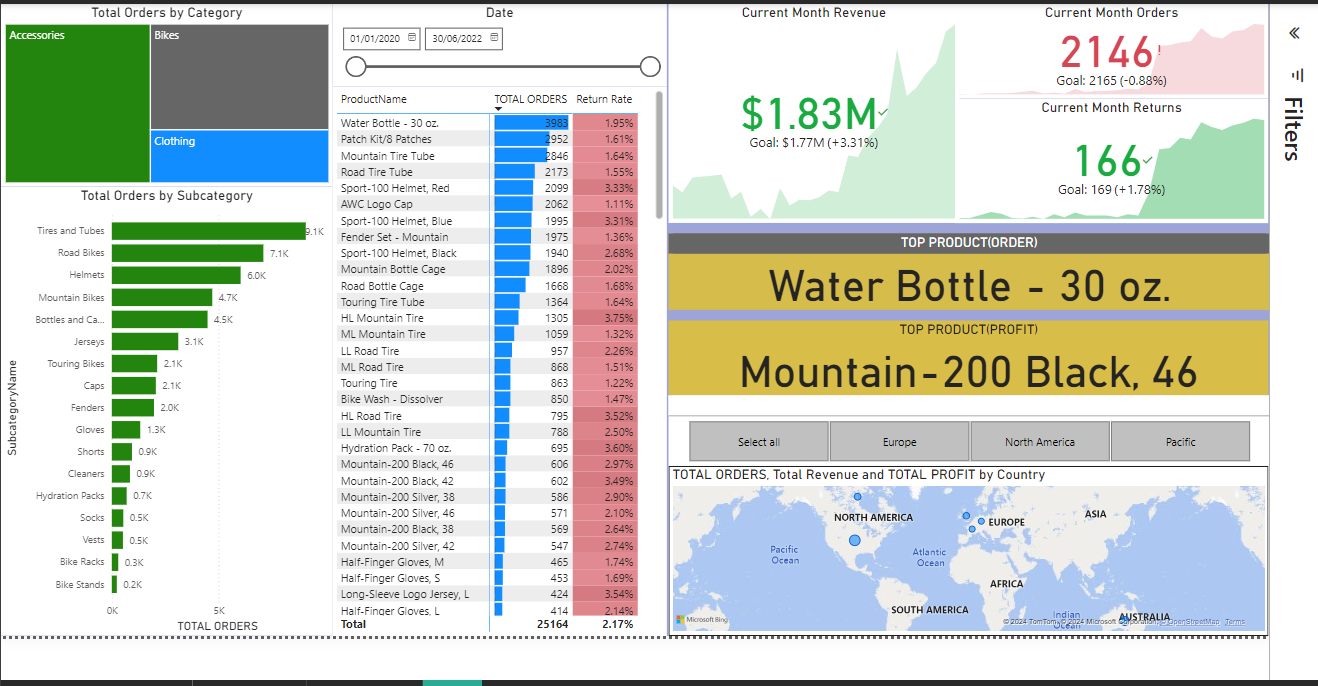

This screenshot's page, from the dashboard's own definition file:
{"tool":"powerbi","page":{"name":"Page 2","canvas":[1560,777],"ordinal":1},"visuals":[{"type":"kpi","title":"Current Month Revenue","fields":{"Indicator":["AW Calendar.Total Revenue"],"TrendLine":["AW Calendar.Start of Month"],"Goal":["AW sales.Prev Month. Rev"]},"box":[820.6,0,357.7,269.2],"z":0},{"type":"kpi","title":"Current Month Orders","fields":{"Indicator":["AW sales.TOTAL ORDERS"],"Goal":["AW sales.Prev. Month Orders"],"TrendLine":["AW Calendar.Start of Month"]},"box":[1174.6,0,385.4,116.2],"z":1000},{"type":"kpi","title":"Current Month Returns","fields":{"Indicator":["AW Returns Data.TOTAL RETURNS"],"Goal":["AW sales.PreV Month.Returns"],"TrendLine":["AW Calendar.Start of Month"]},"box":[1174.6,116.2,385.4,153],"z":2000},{"type":"card","title":"TOP PRODUCT(ORDER)","fields":{"Values":["Min(AW Product.ProductName)"]},"box":[820.6,282.1,739.4,94],"z":3000},{"type":"card","title":"TOP PRODUCT(PROFIT)","fields":{"Values":["Min(AW Product.ProductName)"]},"box":[821.2,389.4,738.2,92.3],"z":4000},{"type":"slicer","title":"Continent","fields":{"Values":["AW Territory.Continent"]},"box":[820.6,481.3,739.4,86.7],"z":5000},{"type":"pivotTable","fields":{"Rows":["AW Product.ProductName"],"Values":["AW sales.TOTAL ORDERS","AW Customer.Return Rate"]},"box":[408.2,101.2,411.7,675.8],"z":6000},{"type":"clusteredBarChart","title":"Total Orders by Subcategory","fields":{"Y":["AW sales.TOTAL ORDERS"],"Category":["AW Product Subcategories.SubcategoryName"]},"box":[0,224.7,408.2,552.3],"z":7000},{"type":"treemap","title":"Total Orders by Category","fields":{"Group":["AW Product Categories.CategoryName","AW Product Subcategories.SubcategoryName"],"Values":["AW sales.TOTAL ORDERS"]},"box":[0,0,408.2,224.7],"z":8000},{"type":"map","fields":{"Category":["AW Territory.Country"],"Size":["AW sales.TOTAL ORDERS"]},"box":[820.6,567.9,739.4,208.4],"z":9000},{"type":"slicer","title":"Date","fields":{"Values":["AW Calendar.Date"]},"box":[408.2,0,411.7,101.2],"z":10000},{"type":"actionButton","box":[0,12.9,219.4,88.5],"z":11000}]}

Visuals, with their boxes on the page's 1560x777 design canvas (x1, y1, x2, y2). These are canvas units, not pixel positions in the 1318x686 screenshot, which may show the page scaled, cropped or inside an application window:
"Current Month Revenue" kpi: bbox(821, 0, 1178, 269)
"Current Month Orders" kpi: bbox(1175, 0, 1560, 116)
"Current Month Returns" kpi: bbox(1175, 116, 1560, 269)
"TOP PRODUCT(ORDER)" card: bbox(821, 282, 1560, 376)
"TOP PRODUCT(PROFIT)" card: bbox(821, 389, 1559, 482)
"Continent" slicer: bbox(821, 481, 1560, 568)
pivotTable - AW Product.ProductName x AW sales.TOTAL ORDERS: bbox(408, 101, 820, 777)
"Total Orders by Subcategory" clusteredBarChart: bbox(0, 225, 408, 777)
"Total Orders by Category" treemap: bbox(0, 0, 408, 225)
map - AW Territory.Country x AW sales.TOTAL ORDERS: bbox(821, 568, 1560, 776)
"Date" slicer: bbox(408, 0, 820, 101)
actionButton: bbox(0, 13, 219, 101)
